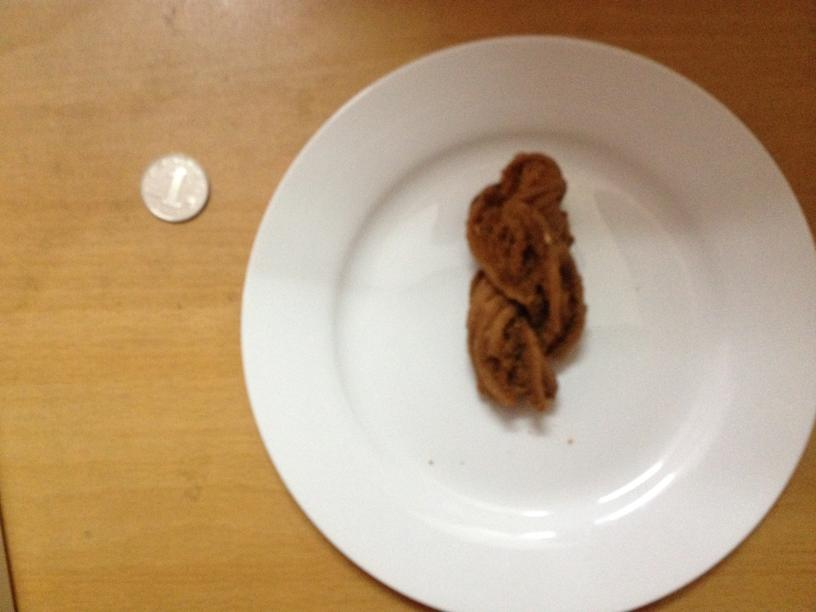coin: (141, 156, 209, 222)
fired_dough_twist: (463, 150, 585, 405)
